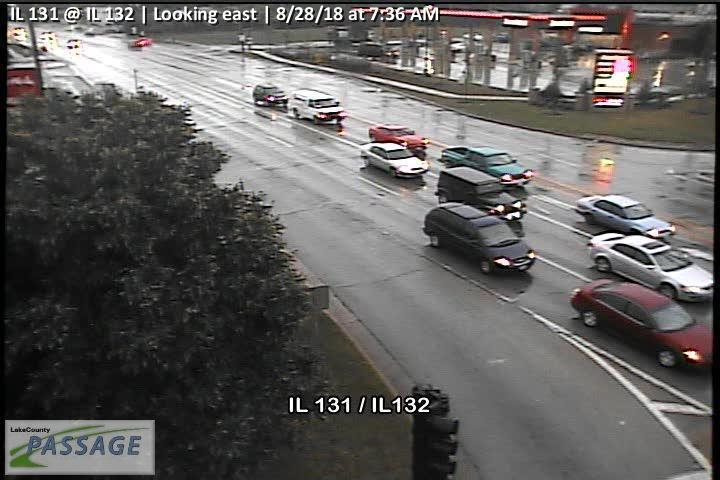SUV: (424, 201, 536, 276), (289, 89, 349, 124), (252, 81, 288, 105)
Sedan: (570, 276, 717, 372), (585, 230, 717, 305), (576, 193, 676, 239), (360, 141, 431, 179), (368, 120, 430, 150)
Truck: (440, 145, 534, 189)
